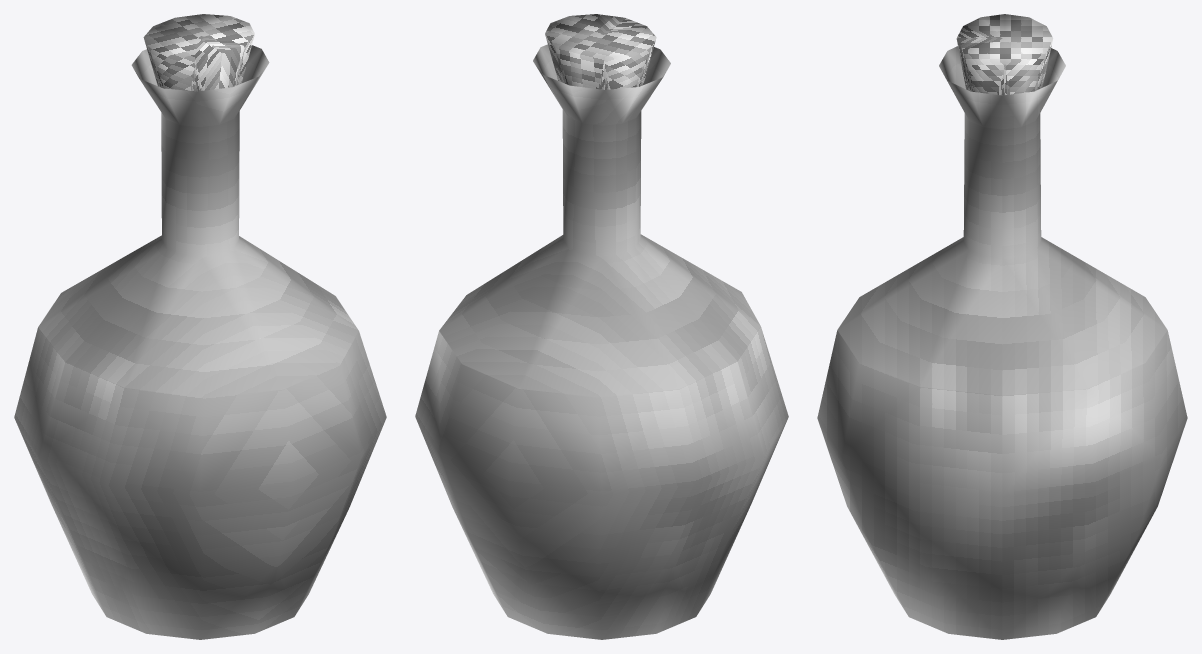
The model's file is poison.obj.
3 views of the same model, side by side, from view 1: azimuth 30°, elevation 25°; view 2: azimuth 150°, elevation 25°; view 3: azimuth 270°, elevation 25° (orthographic).
Parts seen in each view (by area): view 1: Cylinder01, Duplicate01, Cylinder02; view 2: Cylinder01, Duplicate01, Cylinder02; view 3: Cylinder01, Duplicate01, Cylinder02.
Part boxes in pixels (x1=…): Cylinder01: x1=14, y1=328, x2=386, y2=639; Duplicate01: x1=38, y1=45, x2=358, y2=397; Cylinder02: x1=143, y1=14, x2=254, y2=91; Cylinder01: x1=415, y1=326, x2=788, y2=639; Duplicate01: x1=439, y1=44, x2=760, y2=397; Cylinder02: x1=545, y1=14, x2=656, y2=89; Cylinder01: x1=817, y1=330, x2=1187, y2=639; Duplicate01: x1=837, y1=46, x2=1167, y2=395; Cylinder02: x1=956, y1=14, x2=1053, y2=95.
Bounding box in the file's own units: 18.49 × 30.5 × 18.41.
